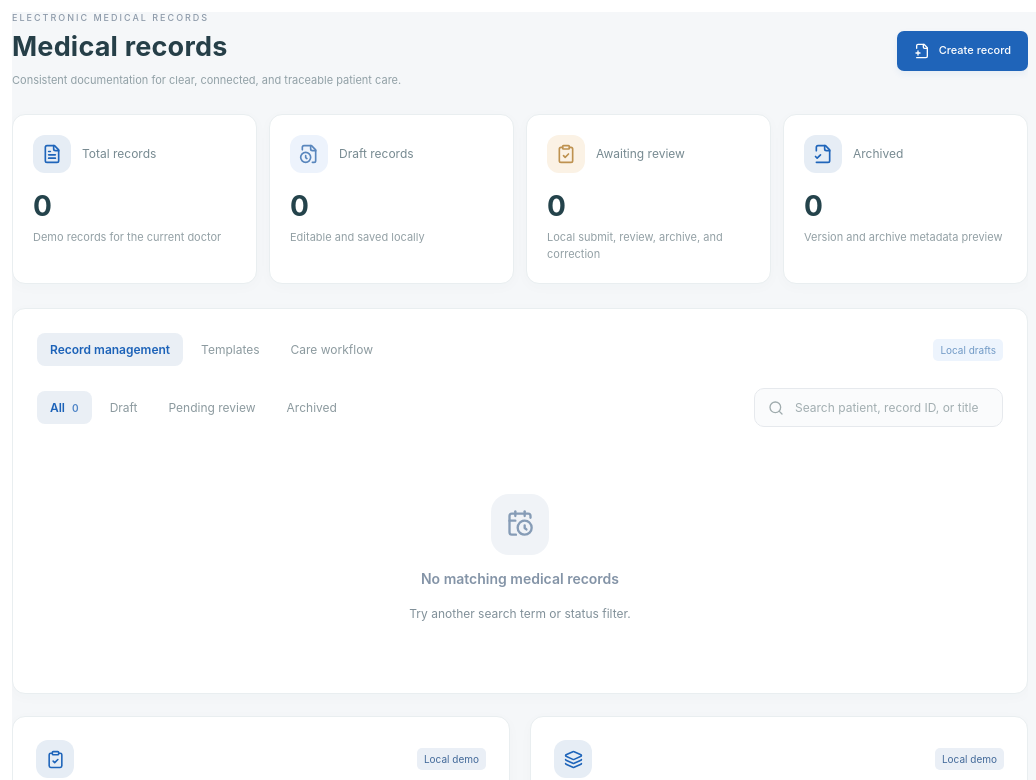
Scenario: Records template catalogue › localizes the same shared catalogue in English
Click the button "Templates": (230, 350) [188,333,273,366]
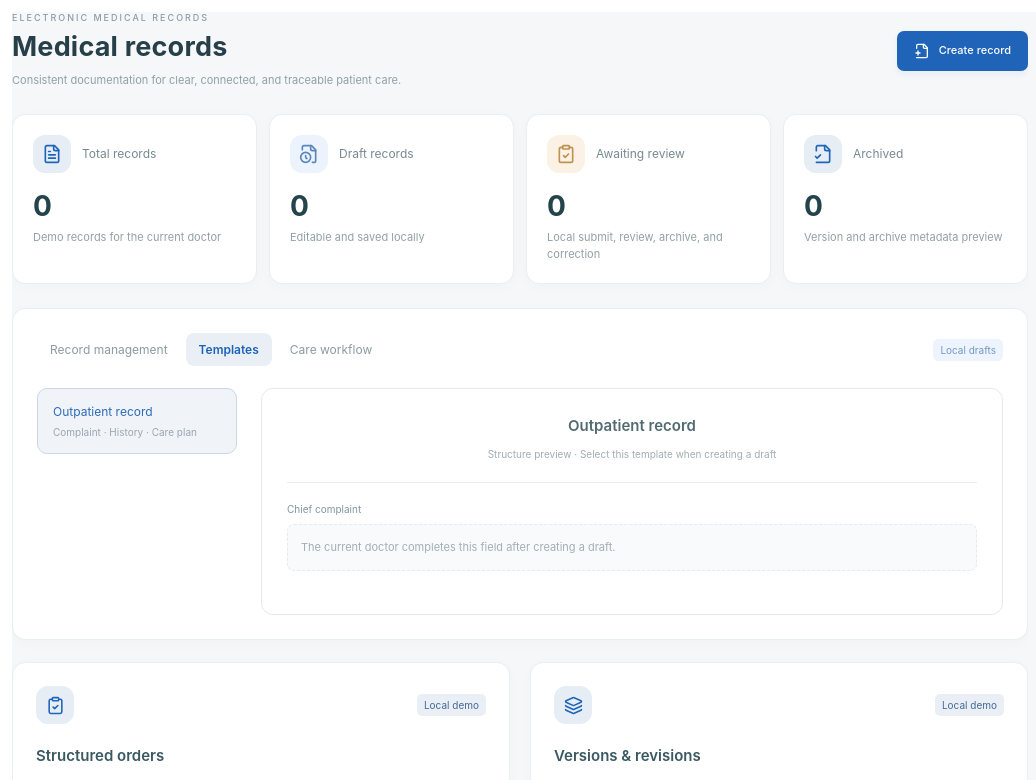
Result: the number of buttons "Outpatient record" is 2 at [37,388,237,454]; [568,416,696,435]
Result: the text "Chief complaint" is shown at [287,503,361,515]
Result: the text "Structure preview · Select this template when creating a draft" is shown at [488,448,776,460]
